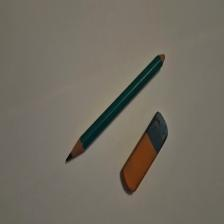eraser: (121, 112, 169, 194)
pencil: (66, 54, 166, 163)
